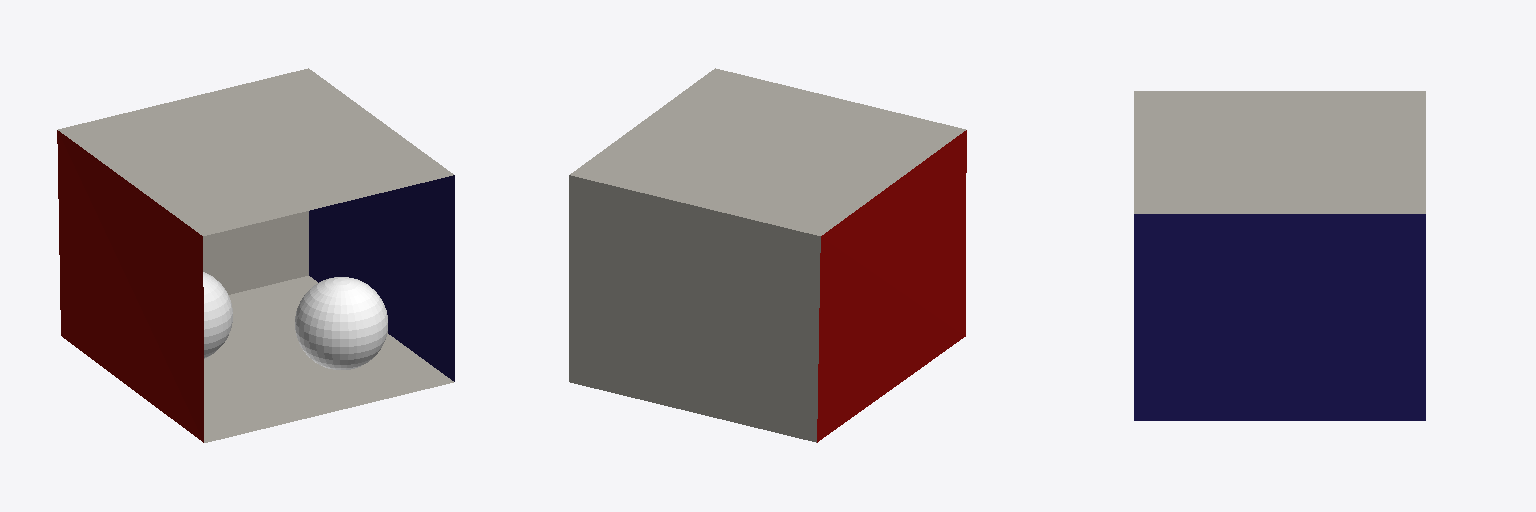
The model's file is CornellBox-Sphere.obj.
The picture shows the model from 3 angles: view 1: azimuth 30°, elevation 25°; view 2: azimuth 150°, elevation 25°; view 3: azimuth 270°, elevation 25°; orthographic projection.
Parts seen in each view (by area): view 1: ceiling, leftWall, floor, rightWall, rightSphere, backWall, leftSphere; view 2: backWall, ceiling, leftWall; view 3: rightWall, ceiling.
Boxes of the visible parts, x1=… form: ceiling: x1=58, y1=68, x2=453, y2=235; leftWall: x1=57, y1=130, x2=203, y2=442; floor: x1=204, y1=276, x2=453, y2=442; rightWall: x1=309, y1=175, x2=454, y2=381; rightSphere: x1=295, y1=277, x2=387, y2=369; backWall: x1=203, y1=211, x2=308, y2=294; leftSphere: x1=203, y1=272, x2=232, y2=358; backWall: x1=569, y1=175, x2=820, y2=442; ceiling: x1=570, y1=68, x2=965, y2=235; leftWall: x1=817, y1=130, x2=966, y2=442; rightWall: x1=1134, y1=214, x2=1425, y2=420; ceiling: x1=1134, y1=91, x2=1425, y2=213.
Size of the model in its own units: 2.02 by 1.59 by 2.03.